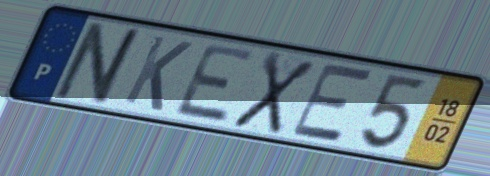5: (359, 71, 429, 152)
E: (170, 41, 261, 126), (287, 62, 376, 145)
K: (119, 32, 197, 114)
N: (48, 19, 150, 109)
X: (227, 48, 320, 138)
